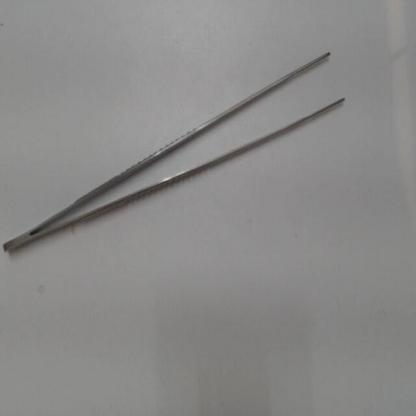DeBakey Dissector: (4, 25, 361, 264)
